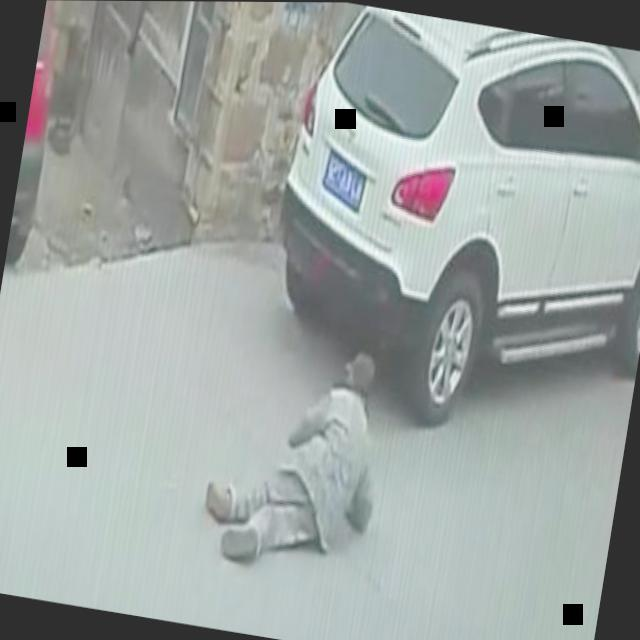Fall-Detected: (195, 321, 402, 591)
